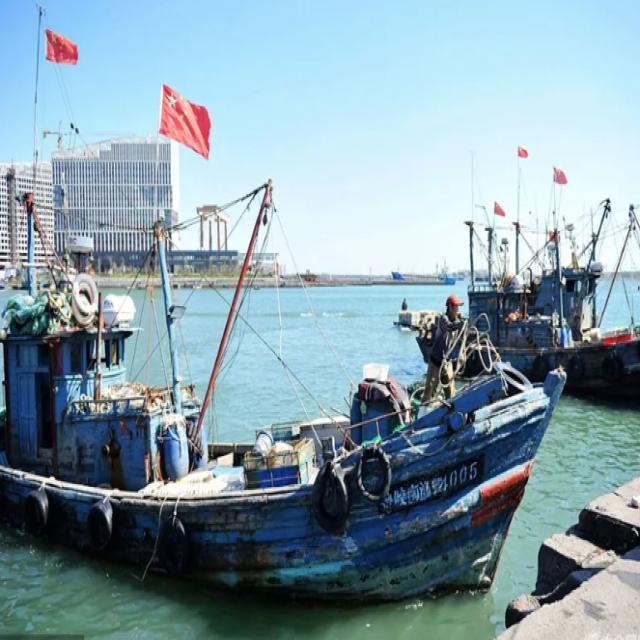fishing boat: (0, 185, 562, 598), (420, 172, 640, 396)
